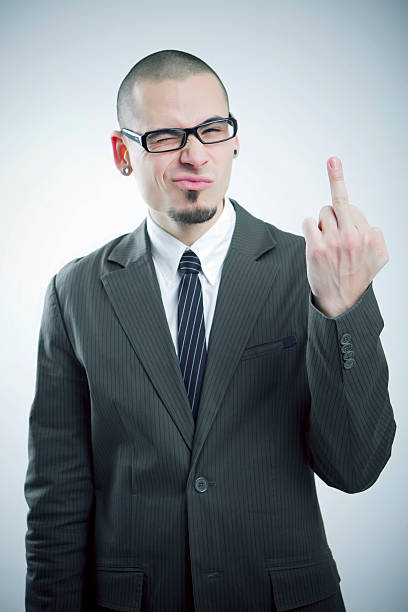insulting_gesture: (299, 151, 392, 305)
